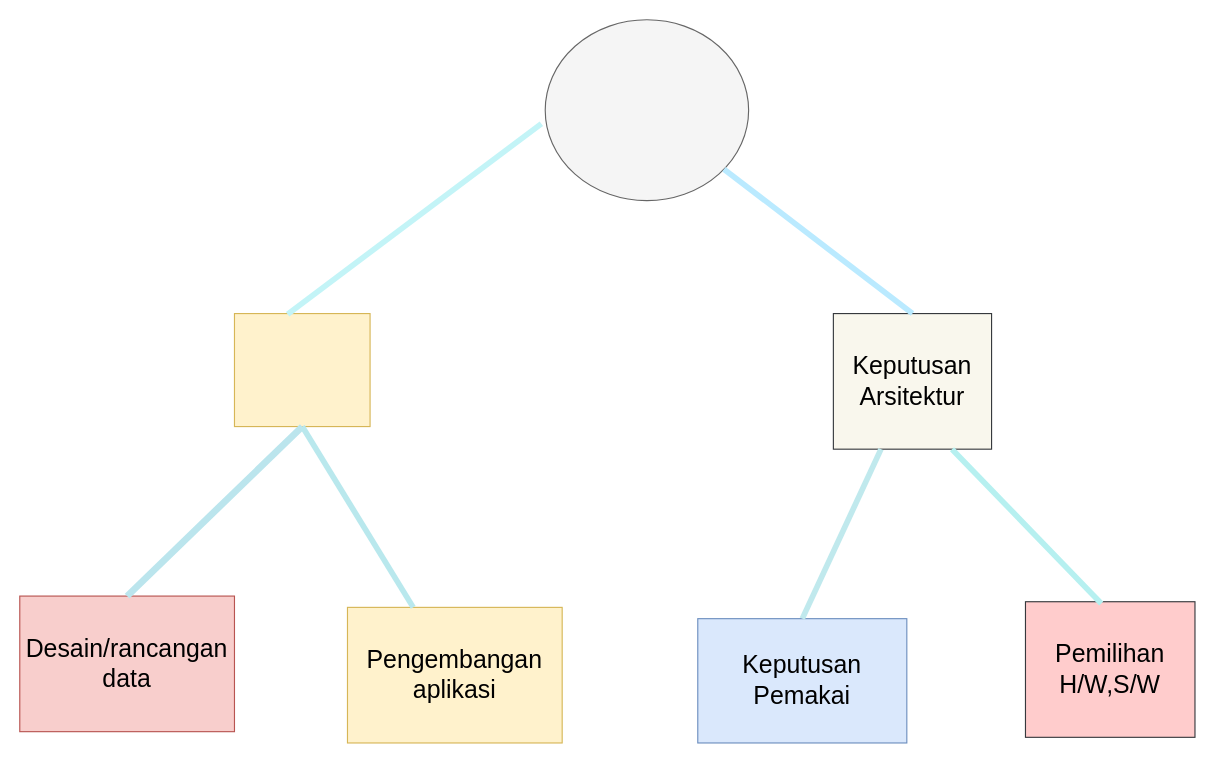
Some shapes in this 1215 by 763 pixel diagram are drawn without their labels. The centre of each missing label's shape, as x and y in pixels:
"Pusat" belongs at point 646,110.
"Standard" belongs at point 301,369.
